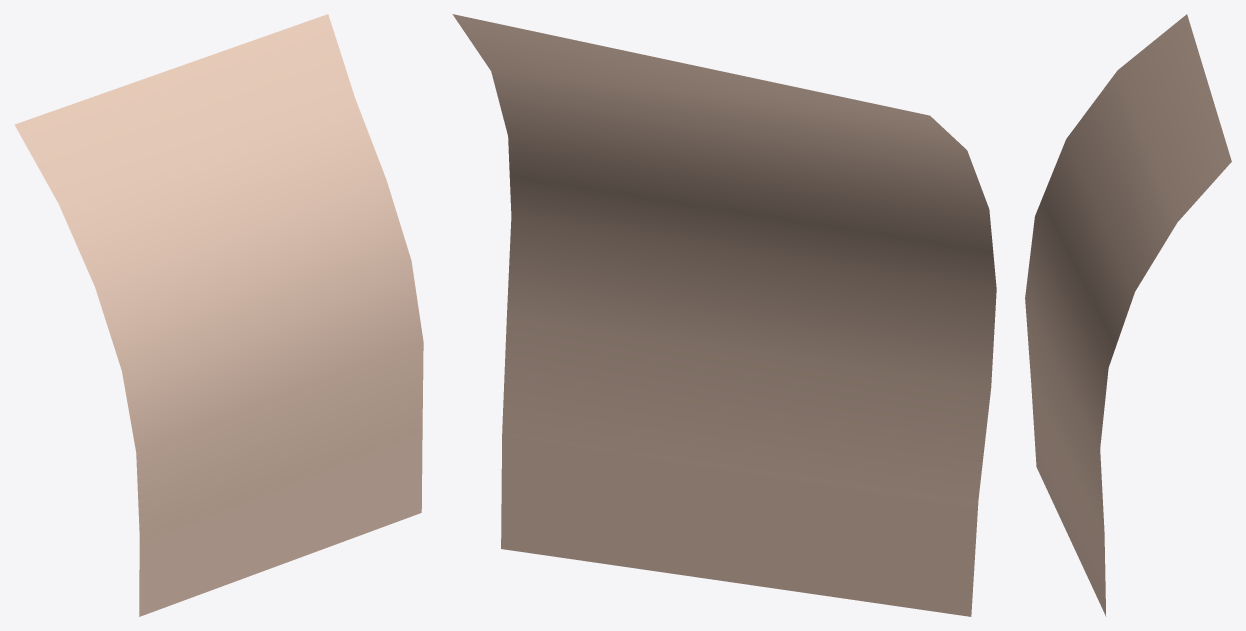
Rendered from Sheet.gltf.
The picture shows the model from 3 angles, left to right: view 1: azimuth 30°, elevation 25°; view 2: azimuth 150°, elevation 25°; view 3: azimuth 270°, elevation 25°; orthographic projection. The views are drawn at different scales.
Parts seen in each view (by area): view 1: Plane; view 2: Plane; view 3: Plane.
Part boxes in pixels (<box>): Plane: <box>14,14,423,616</box>; Plane: <box>452,14,996,616</box>; Plane: <box>1025,14,1231,616</box>.
Size of the model in its own units: 1.46 by 1.75 by 0.7432.
